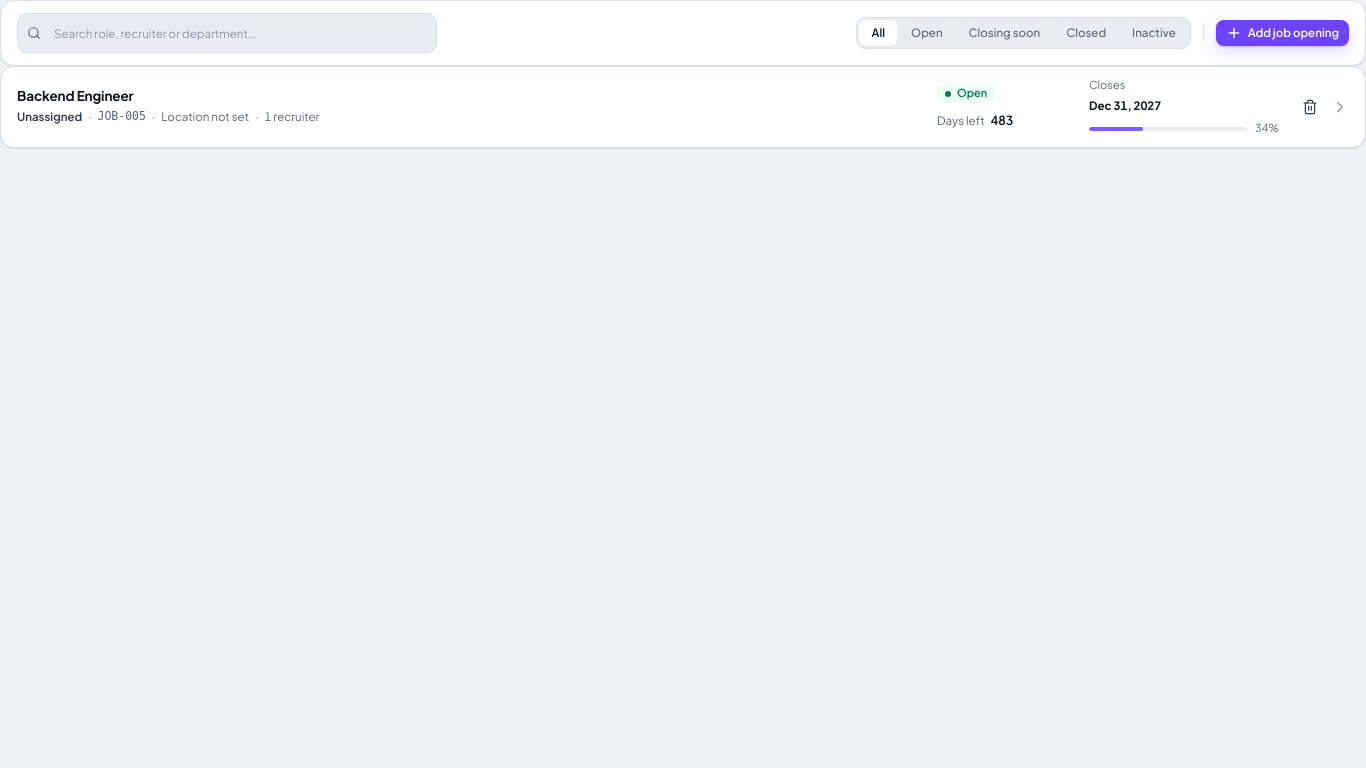
JobOpeningsTab recruiter picker › keeps an already-assigned ineligible recruiter visible so it can be removed
What coordinates should you click on to do the following:
click the button with aria-label "Edit Backend Engineer"
I would click on:
 (75, 96)
Its box is [0,66,1365,148].
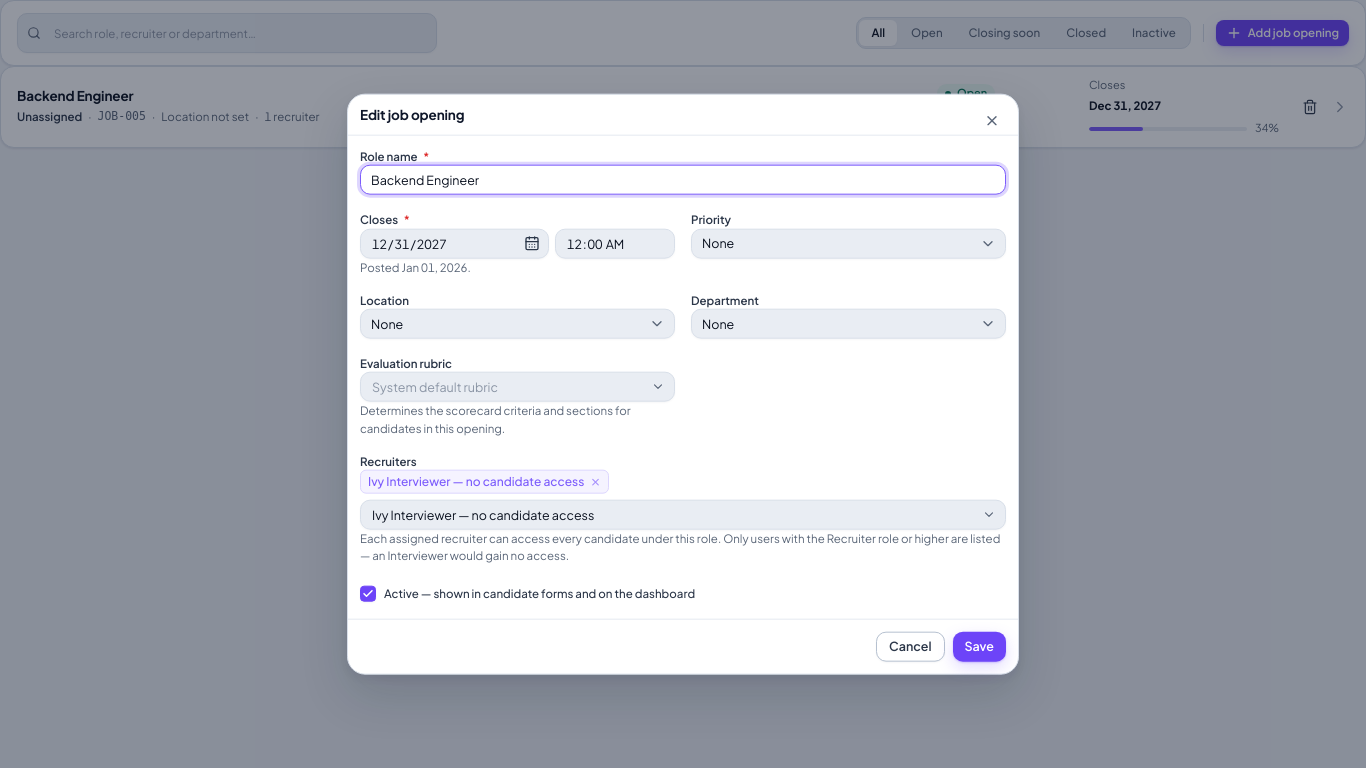
Expected: the dropdown with placeholder "Search by name or email…" below "Ivy Interviewer — no candidate access" is shown, [360,500,1006,530]
Expected: the text "Ivy Interviewer — no candidate access" is shown, [368,473,584,491]
